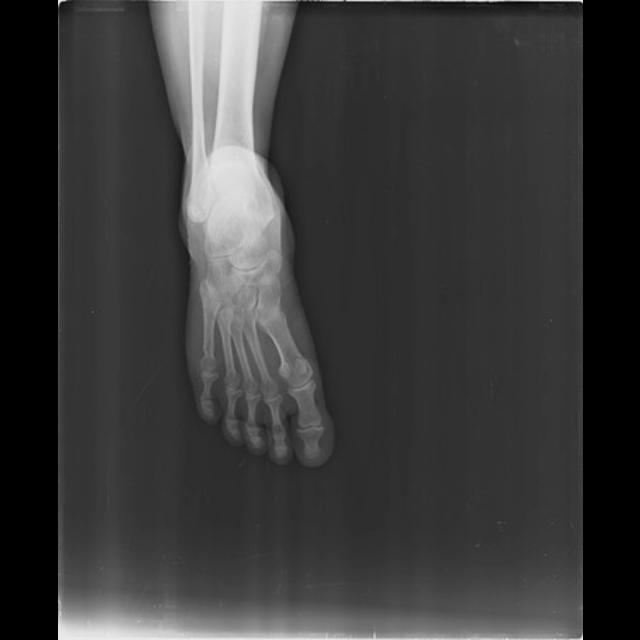Fracture: (246, 303, 274, 332)
